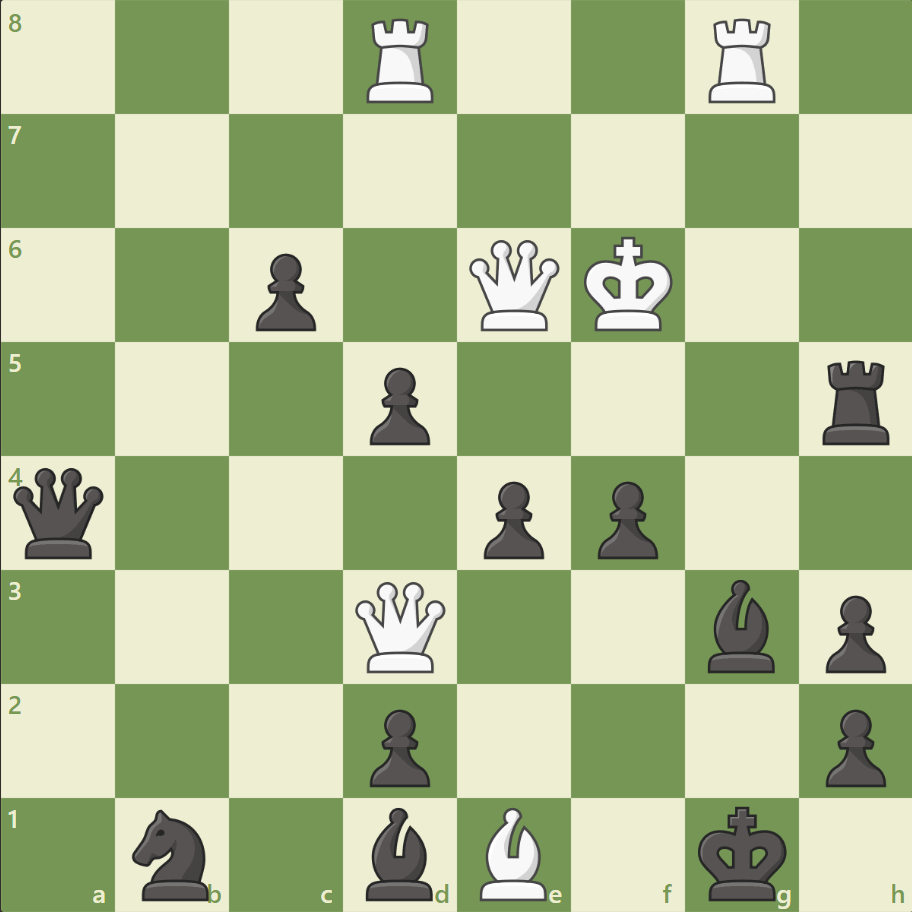B: (471, 801, 555, 904)
K: (579, 231, 679, 339)
Q: (351, 576, 450, 676), (464, 236, 563, 335)
R: (700, 12, 783, 109), (360, 12, 442, 109)
b: (358, 801, 442, 904), (698, 574, 782, 676)
k: (692, 798, 792, 906)
n: (124, 802, 222, 904)
p: (247, 246, 322, 337), (474, 473, 549, 564), (361, 359, 435, 450), (588, 473, 662, 564), (815, 586, 889, 677), (361, 700, 435, 791), (815, 700, 889, 791)
q: (10, 463, 109, 562)
r: (814, 352, 897, 449)
